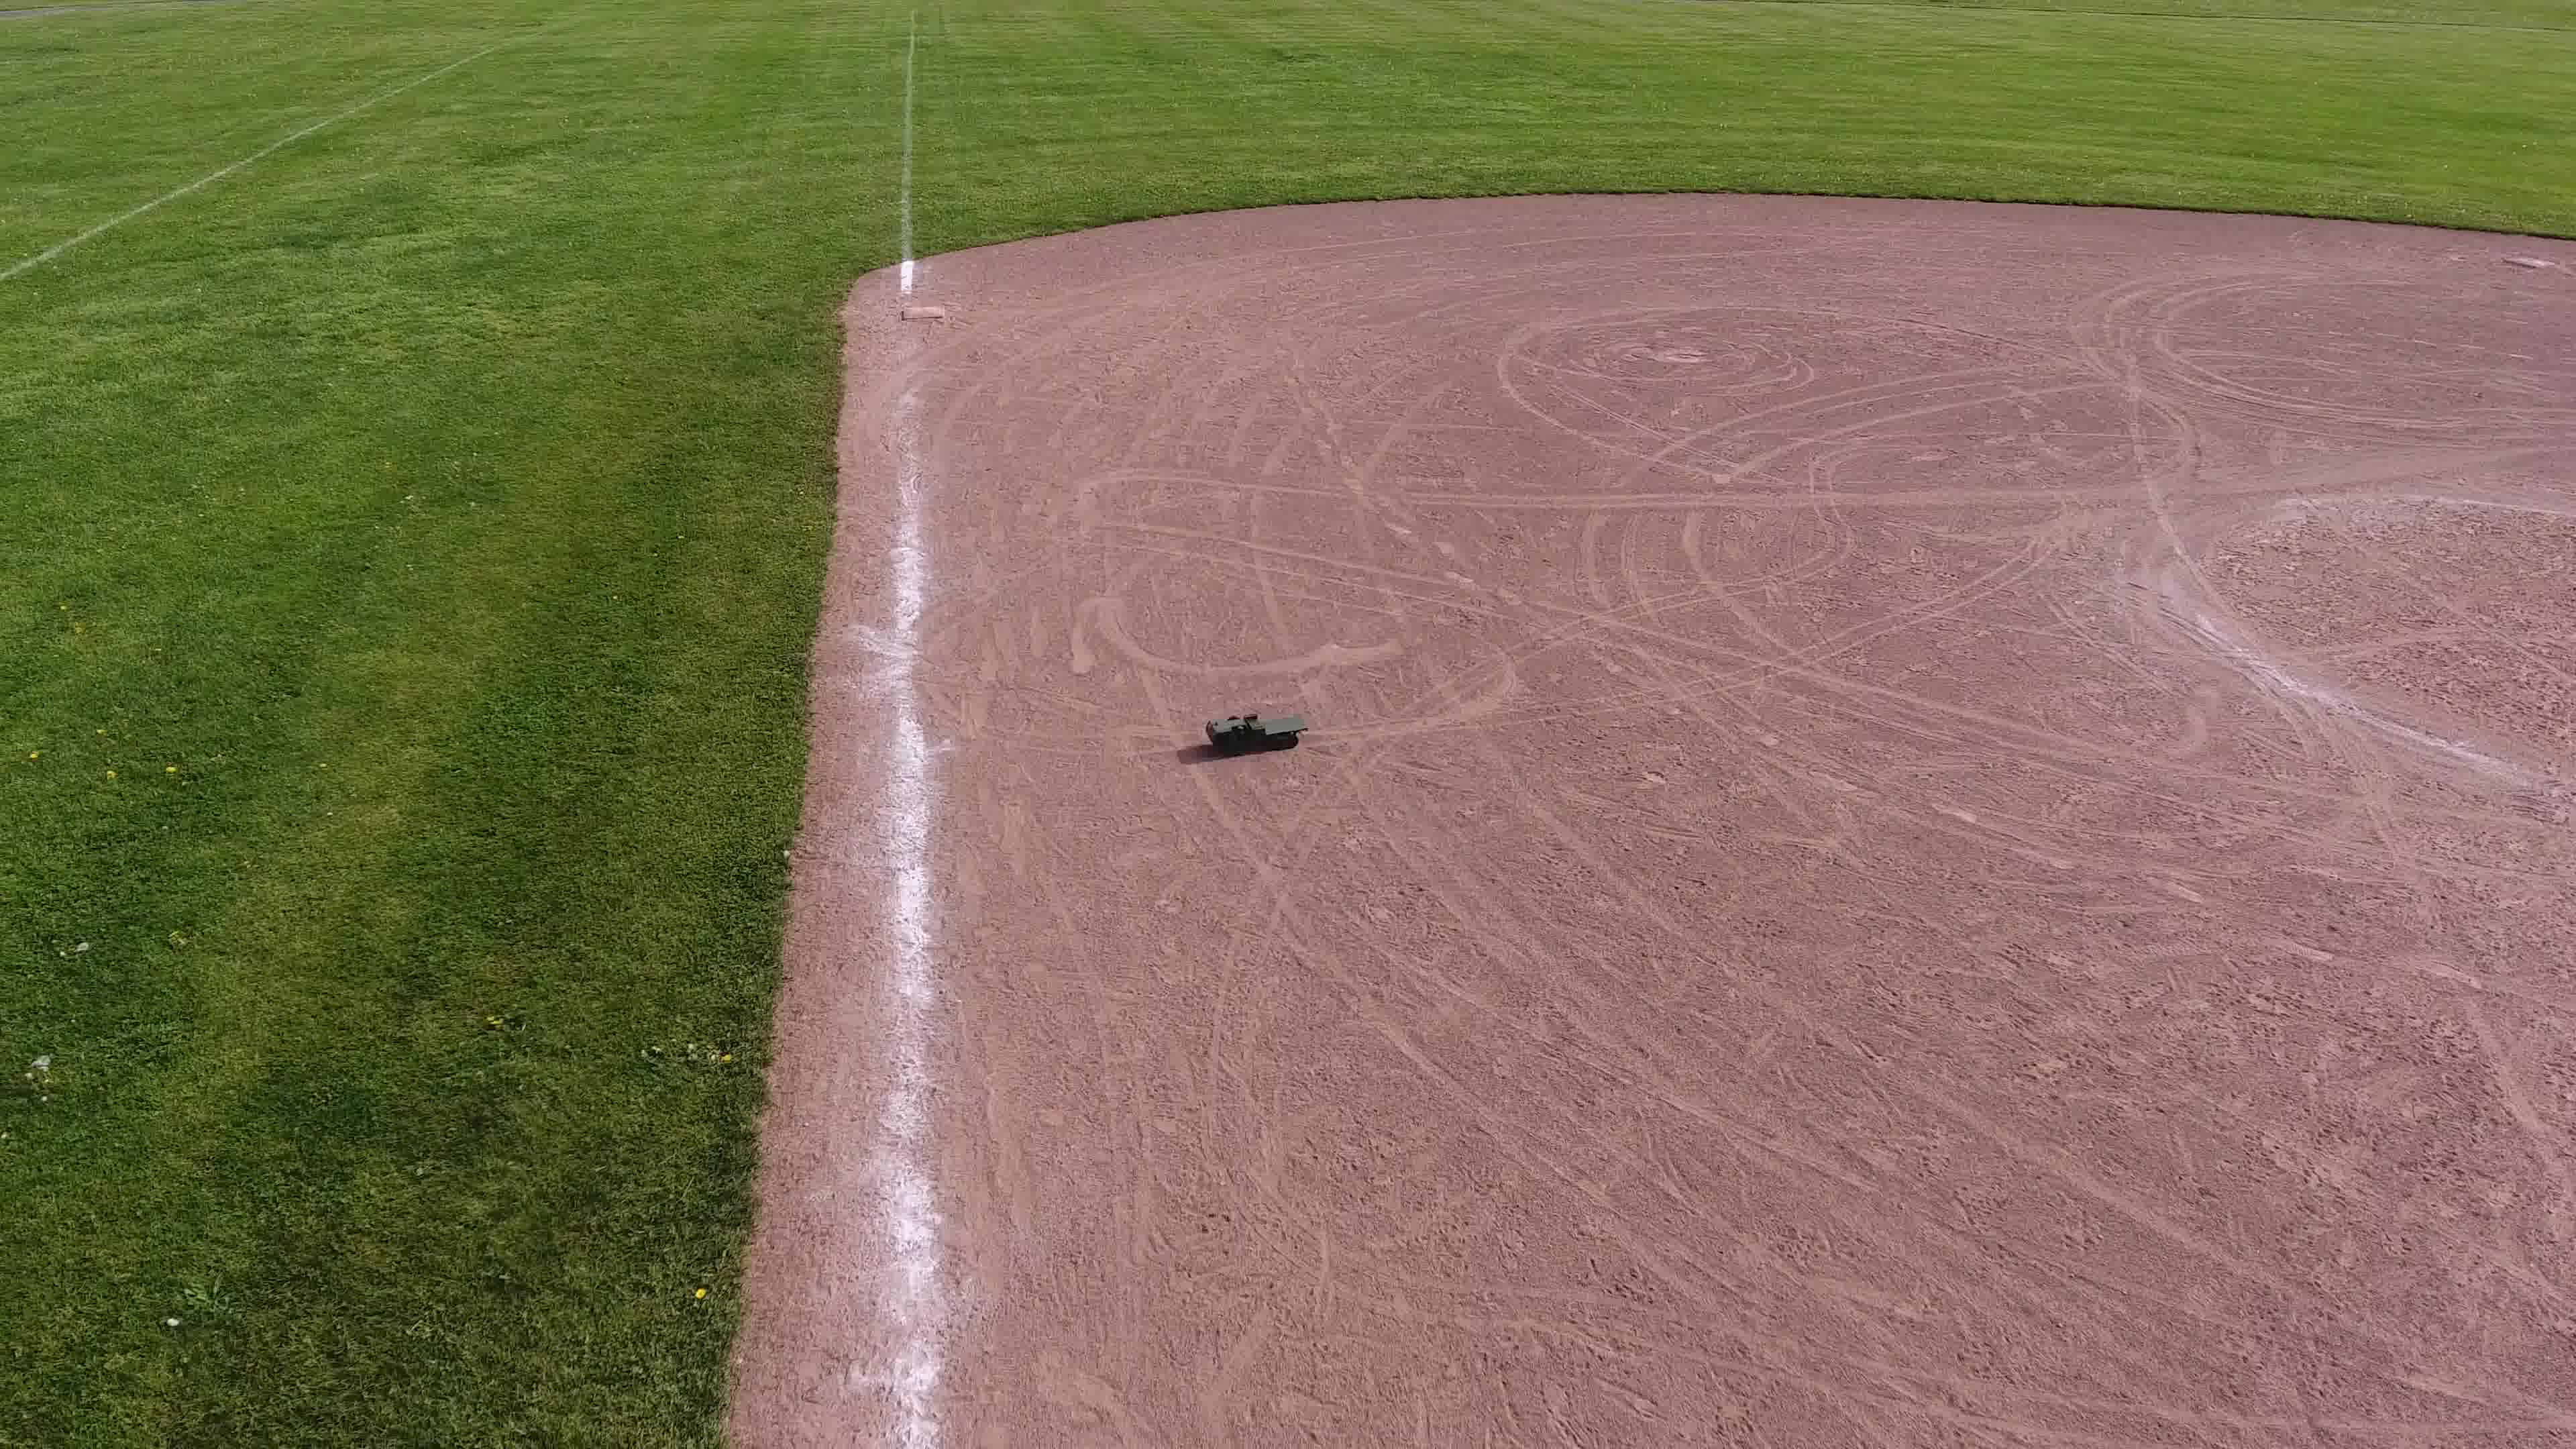transporter9: (1203, 708, 1311, 757)
